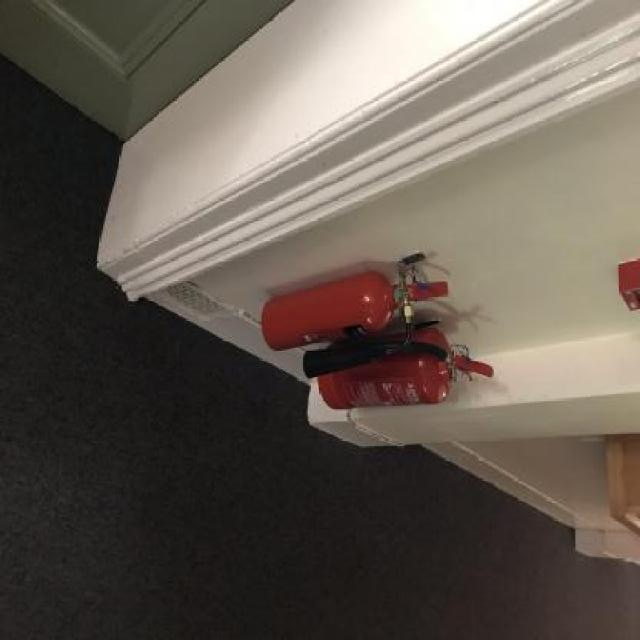fire extinguisher: (262, 272, 446, 380), (318, 326, 494, 412)
